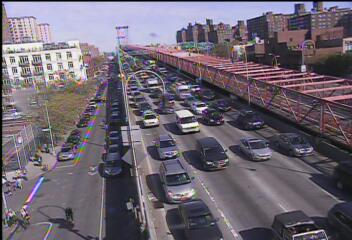neg: (307, 53, 337, 93), (204, 153, 233, 191), (299, 117, 324, 151), (100, 101, 124, 133), (235, 76, 258, 107), (88, 43, 111, 73), (63, 129, 85, 159), (19, 43, 41, 73), (52, 197, 74, 226), (150, 95, 172, 124), (20, 87, 42, 116), (174, 172, 194, 200), (282, 174, 302, 202), (111, 176, 130, 202), (265, 37, 284, 63), (141, 38, 160, 63), (243, 132, 261, 156), (216, 106, 233, 129), (144, 179, 161, 202), (190, 46, 207, 68), (273, 96, 288, 115)
pos: (13, 175, 25, 190)
